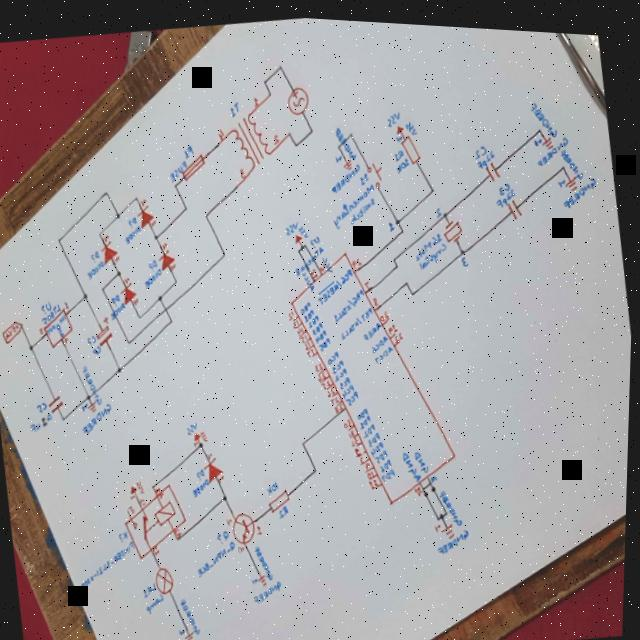capacitor: (95, 313, 116, 346), (506, 189, 524, 215), (484, 152, 502, 177), (49, 392, 66, 413)
crossover: (164, 301, 171, 310)
diode: (204, 452, 228, 482), (100, 237, 121, 264), (119, 277, 140, 303), (136, 201, 156, 227), (157, 246, 177, 269)
ground: (442, 515, 459, 534), (563, 167, 578, 185), (540, 127, 555, 144), (187, 626, 200, 640), (259, 569, 272, 583), (88, 398, 100, 412), (341, 153, 353, 166)
junction: (301, 433, 310, 444), (312, 461, 321, 471), (117, 362, 125, 372), (29, 341, 37, 351), (292, 135, 300, 144), (430, 179, 437, 189), (224, 489, 231, 498), (221, 246, 228, 255), (308, 121, 315, 130), (127, 335, 134, 344), (204, 208, 211, 217), (57, 234, 64, 243), (174, 274, 181, 283), (83, 290, 90, 299), (267, 86, 274, 95), (104, 186, 111, 195), (154, 230, 161, 239), (399, 220, 406, 229), (158, 290, 165, 299), (62, 412, 69, 421), (183, 201, 190, 209), (169, 314, 176, 322), (199, 438, 207, 445), (394, 213, 401, 220), (134, 192, 140, 200), (116, 210, 122, 218), (173, 179, 179, 186), (98, 229, 104, 236), (405, 274, 411, 280), (392, 251, 398, 257), (101, 284, 107, 290), (277, 59, 282, 66), (262, 74, 267, 81), (561, 156, 566, 163), (138, 311, 143, 318), (443, 205, 448, 212), (411, 284, 416, 291), (178, 532, 183, 538), (117, 268, 122, 274), (441, 506, 446, 512), (152, 481, 157, 487), (87, 392, 92, 398), (300, 240, 305, 246), (349, 126, 354, 132), (336, 139, 341, 145), (460, 243, 465, 249), (538, 120, 543, 126), (287, 126, 292, 132), (423, 479, 428, 485), (395, 258, 400, 263), (446, 504, 451, 509), (297, 244, 302, 249), (430, 474, 435, 479), (439, 510, 443, 515), (305, 239, 308, 243)
resistor: (399, 127, 422, 159), (268, 483, 294, 511)
source: (285, 80, 311, 113), (295, 228, 304, 240), (132, 481, 140, 493), (395, 119, 404, 129), (195, 428, 204, 438)
switch: (366, 155, 385, 184)
terminal: (2, 317, 27, 345)
text: (78, 535, 143, 590), (329, 176, 380, 226), (196, 534, 242, 577), (315, 261, 358, 302), (560, 166, 601, 203), (339, 300, 378, 337), (80, 398, 117, 436), (332, 282, 369, 319), (533, 127, 572, 161), (327, 156, 364, 191), (528, 91, 558, 134), (293, 239, 329, 273), (437, 520, 474, 550), (180, 592, 206, 634), (417, 234, 450, 266), (413, 224, 445, 256), (347, 190, 379, 221), (82, 361, 105, 404), (442, 482, 466, 523), (332, 120, 358, 157), (559, 138, 585, 174), (254, 574, 287, 600), (403, 443, 425, 478), (256, 539, 275, 573), (40, 300, 65, 324), (30, 410, 57, 432), (168, 156, 191, 181), (494, 180, 517, 203), (143, 264, 165, 287), (147, 589, 169, 612), (363, 315, 385, 337), (415, 442, 432, 470), (374, 338, 396, 359), (193, 473, 214, 495), (476, 142, 496, 164), (87, 258, 107, 279), (124, 222, 143, 243), (110, 299, 129, 320), (371, 329, 391, 348), (4, 321, 23, 340), (302, 266, 317, 288), (342, 377, 359, 396), (144, 578, 161, 597), (395, 150, 411, 169), (371, 434, 387, 453), (284, 215, 301, 232), (382, 461, 399, 478), (375, 442, 392, 459), (363, 417, 380, 434), (331, 353, 348, 370), (385, 105, 401, 123), (346, 384, 362, 402), (267, 475, 283, 492), (334, 361, 350, 378), (472, 137, 488, 154), (369, 425, 384, 443), (318, 331, 334, 347), (218, 525, 234, 541), (403, 114, 418, 131), (327, 344, 342, 361), (360, 408, 374, 425), (315, 323, 329, 340), (308, 308, 322, 325), (357, 401, 372, 416), (339, 370, 354, 385), (380, 452, 394, 468), (187, 417, 201, 433), (498, 174, 512, 190), (228, 97, 241, 114), (322, 251, 335, 268), (279, 500, 293, 515), (41, 298, 54, 314), (183, 141, 195, 157), (304, 302, 316, 318), (393, 143, 406, 157), (312, 316, 325, 330), (300, 296, 313, 309), (351, 252, 364, 265), (388, 316, 400, 330), (298, 220, 310, 234), (120, 527, 132, 541), (149, 255, 160, 270), (91, 247, 102, 262), (181, 635, 213, 640), (138, 476, 148, 492), (57, 321, 67, 337), (87, 332, 99, 345), (37, 400, 50, 412), (47, 322, 59, 335), (310, 231, 322, 244), (128, 213, 139, 227), (111, 291, 122, 305), (380, 303, 391, 317), (153, 540, 164, 554), (321, 373, 333, 385), (460, 248, 471, 261), (395, 325, 406, 338), (202, 426, 212, 440), (310, 262, 320, 276), (360, 166, 370, 180), (370, 472, 381, 484), (198, 464, 208, 477), (156, 483, 166, 496), (416, 479, 426, 491), (217, 124, 226, 137), (272, 128, 280, 142), (93, 343, 103, 354), (318, 366, 328, 377), (331, 390, 341, 401), (335, 398, 345, 409), (297, 321, 306, 333), (308, 342, 317, 354), (328, 381, 337, 393), (345, 412, 354, 424), (349, 423, 358, 435), (352, 430, 361, 442), (176, 524, 185, 536), (130, 501, 139, 513), (252, 92, 260, 105), (258, 519, 266, 532), (368, 464, 378, 474), (239, 541, 249, 551), (533, 130, 543, 140), (557, 170, 567, 180), (316, 357, 325, 368), (355, 441, 364, 452), (83, 399, 92, 410), (288, 305, 296, 317), (293, 313, 301, 325), (239, 162, 246, 175), (300, 329, 309, 339), (388, 215, 396, 226), (60, 312, 68, 323), (436, 200, 443, 212), (365, 274, 372, 286), (432, 468, 441, 477), (436, 517, 445, 526), (335, 149, 344, 158), (161, 238, 169, 248), (219, 470, 227, 480), (360, 450, 367, 461), (305, 336, 313, 345), (181, 624, 189, 633), (140, 195, 148, 204), (150, 216, 158, 225), (366, 456, 373, 466), (142, 494, 149, 504), (373, 290, 379, 301), (395, 129, 403, 137), (170, 260, 178, 268), (134, 294, 141, 303), (209, 448, 216, 457), (228, 513, 235, 522), (320, 257, 327, 266), (254, 573, 261, 581), (104, 232, 111, 240), (65, 299, 71, 308), (125, 275, 132, 282), (131, 491, 138, 498), (115, 253, 122, 260), (195, 437, 201, 444), (40, 325, 45, 333), (65, 335, 70, 341)
transformer: (224, 104, 277, 173)
transistor: (232, 506, 260, 542)
